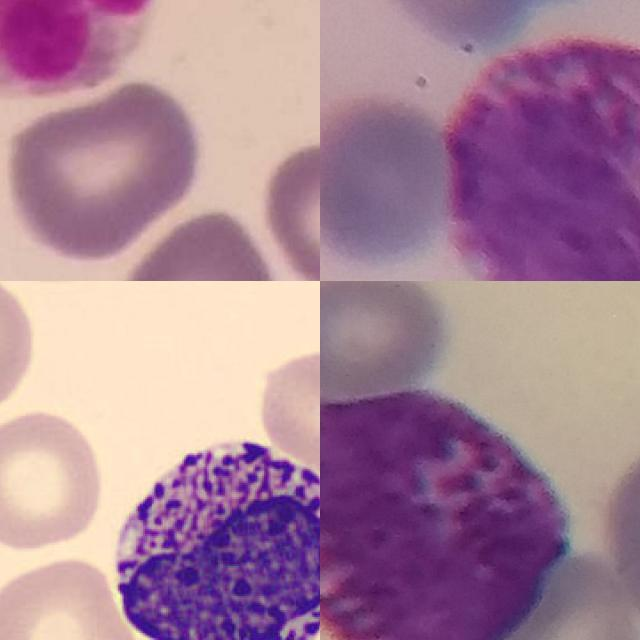Basophil: (320, 386, 571, 640), (438, 41, 640, 281), (102, 423, 320, 640)
RBC: (0, 405, 109, 553), (0, 550, 143, 640), (251, 343, 320, 495), (0, 281, 43, 419)
